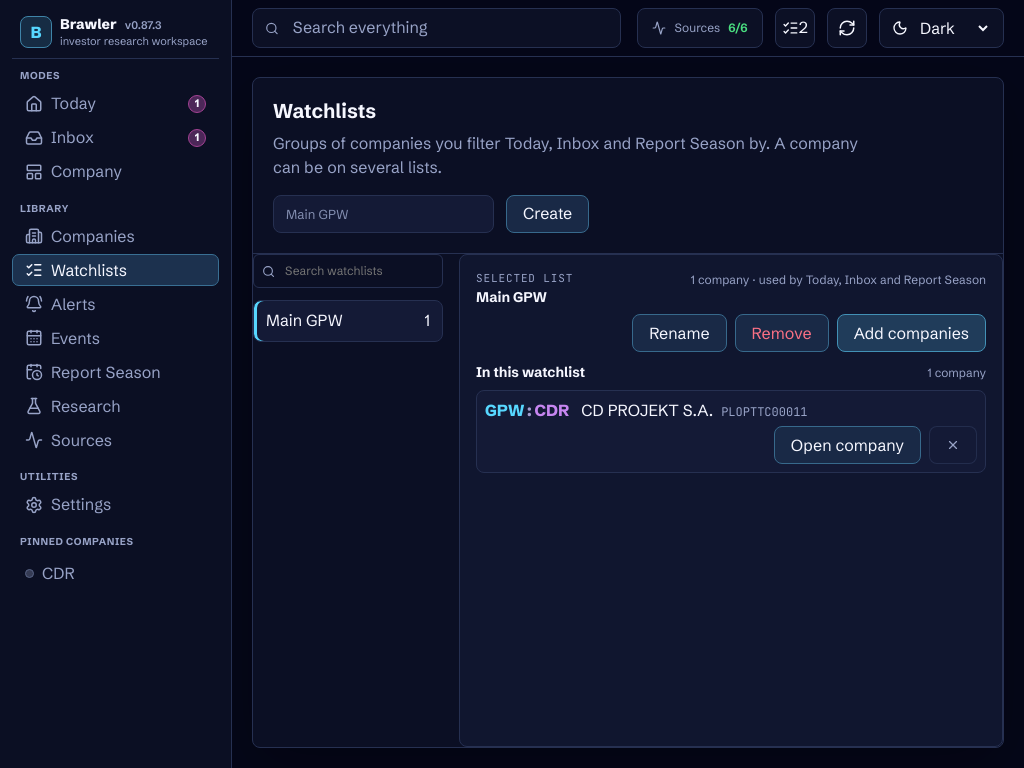
Watchlists primary action per state (F4a contract § Watchlists, State matrix) › Empty (search no match): the invitation's Create action is the one filled action
Type "zzz-no-such-list" into the field labelled "Search watchlists" at point(359, 271), box [283,261,434,281]
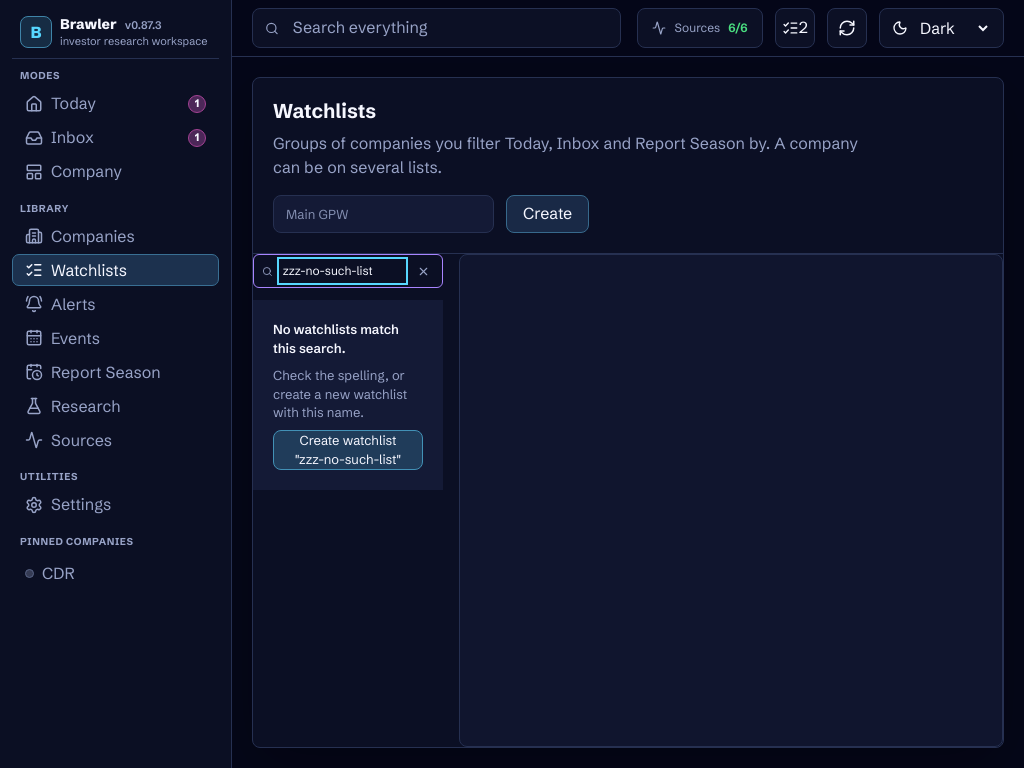
Expected: the text "No watchlists match this search." is shown, [273,321,399,356]
